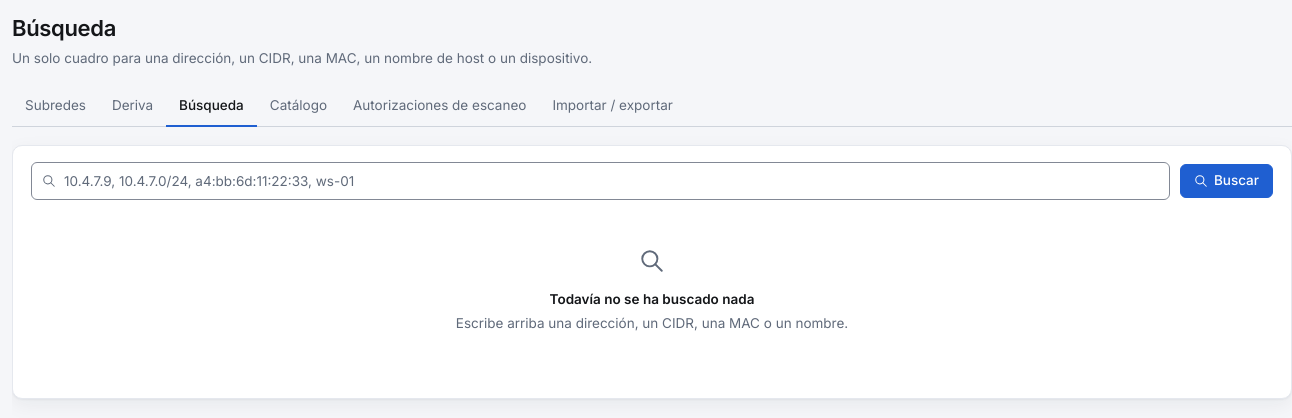
it: the search page in Spanish › says a search that failed, and a kind it does not know
Type "abc" into the field named "Buscar direcciones, subredes y dispositivos" at [600, 181], box left=31, top=162, right=1170, bottom=200
Then press Enter
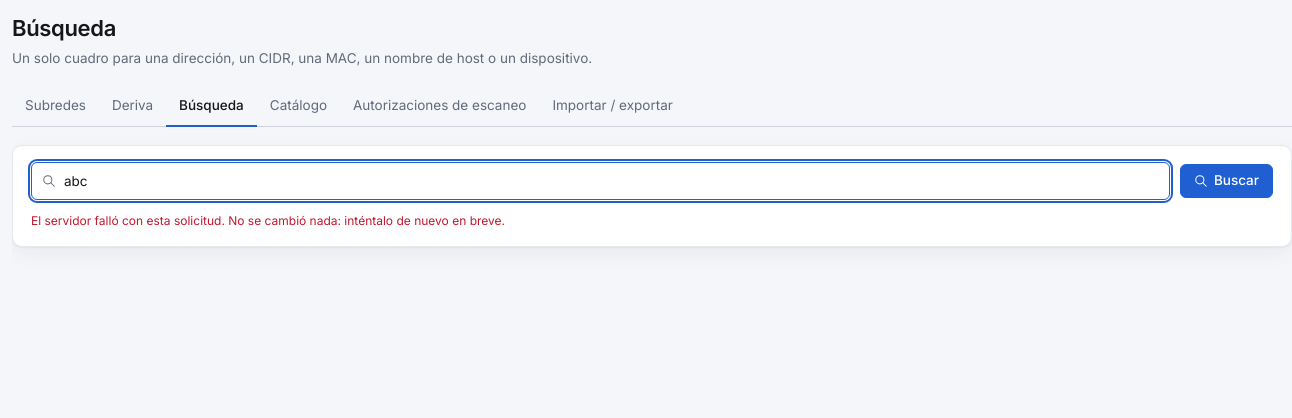
Expected: the message is shown, left=31, top=213, right=505, bottom=228
